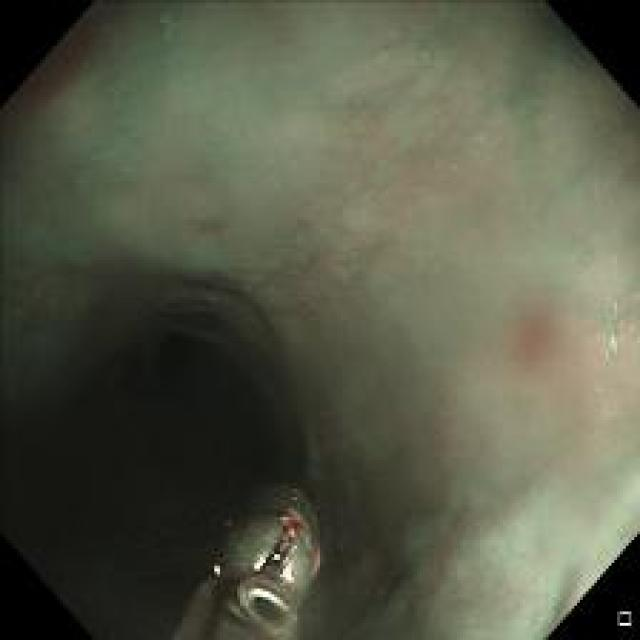color misalignment: (596, 268, 635, 386)
contrast: (39, 306, 315, 621)
instrument: (161, 478, 338, 634)
